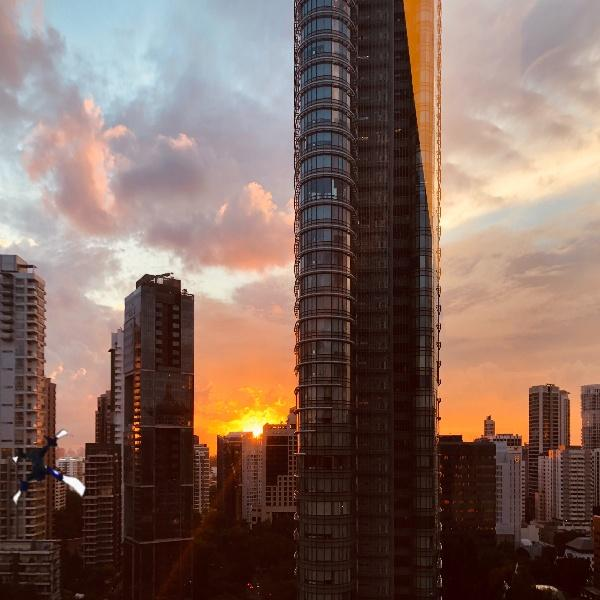drone: (2, 431, 98, 527)
